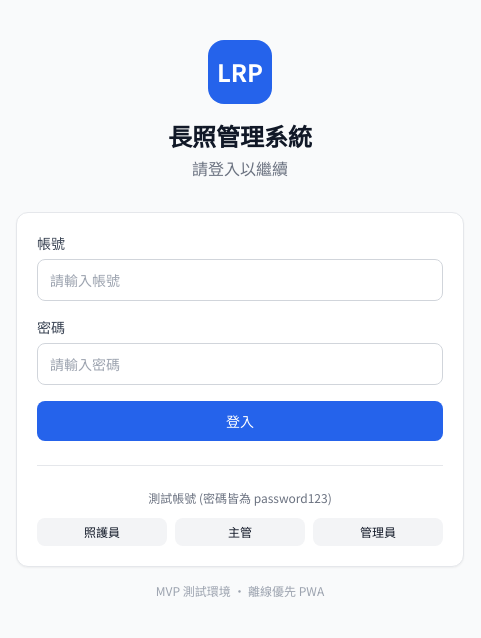
Auth Flow Integration Tests › Login Page › should show validation errors for empty fields
Click the button "登入".
click(240, 420)  # box left=37, top=400, right=443, bottom=440
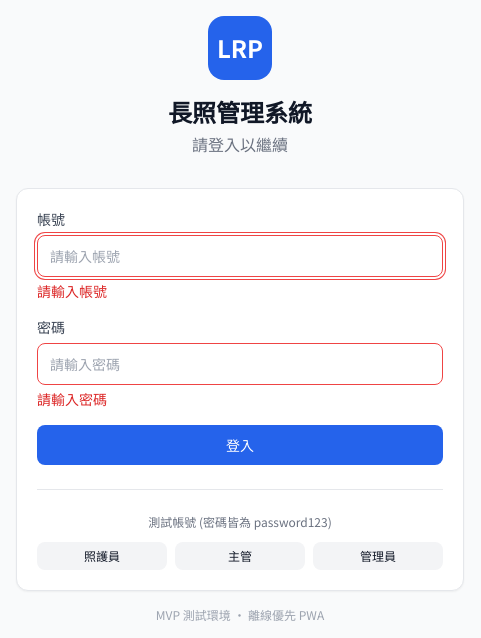
Expected: the text "請輸入帳號" is shown, left=37, top=280, right=107, bottom=300
Expected: the text "請輸入密碼" is shown, left=37, top=388, right=107, bottom=408
